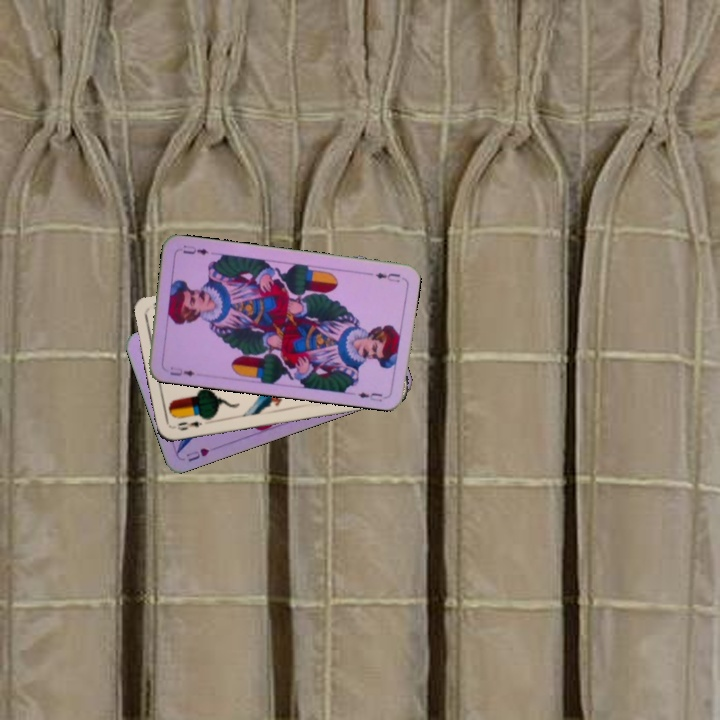EO: (173, 417, 205, 433)
EU: (371, 268, 403, 285), (166, 362, 197, 379)
HU: (182, 444, 211, 464)
